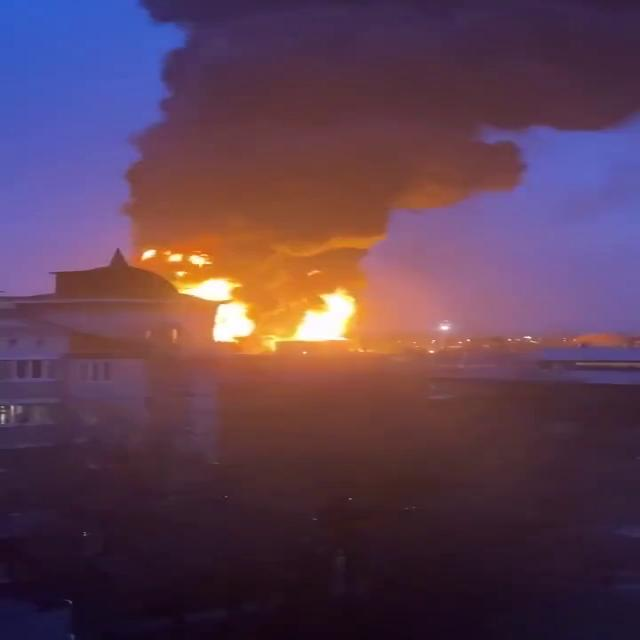Fire: (180, 283, 254, 344), (292, 291, 360, 350)
Smoke: (122, 0, 640, 334)
